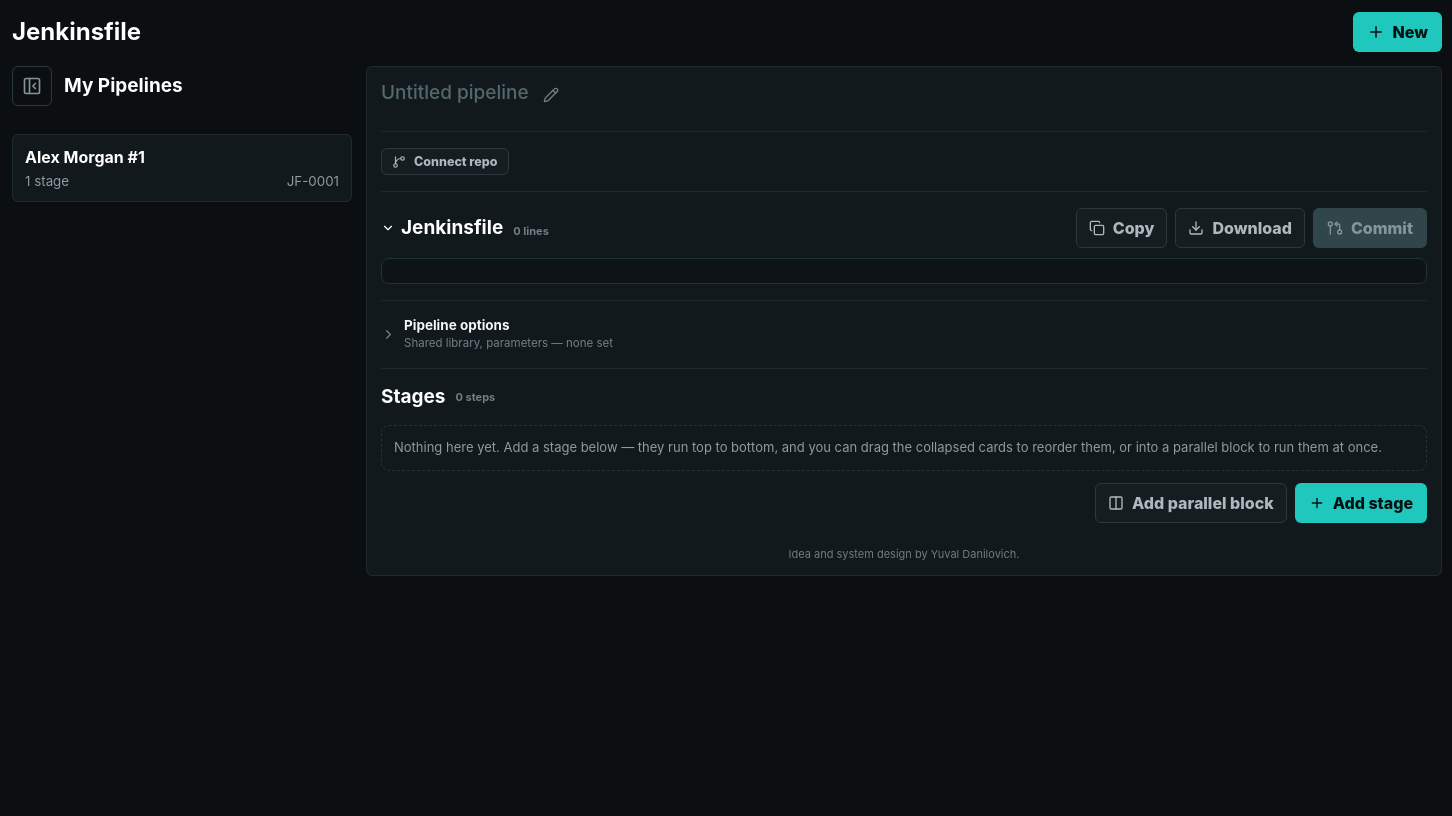
Scenario: JenkinsfileView › migrates a saved pipeline's envVars map into a populateEnvVars card
Click the text "Alex Morgan #1" at (85, 157), box [25,147,145,167]
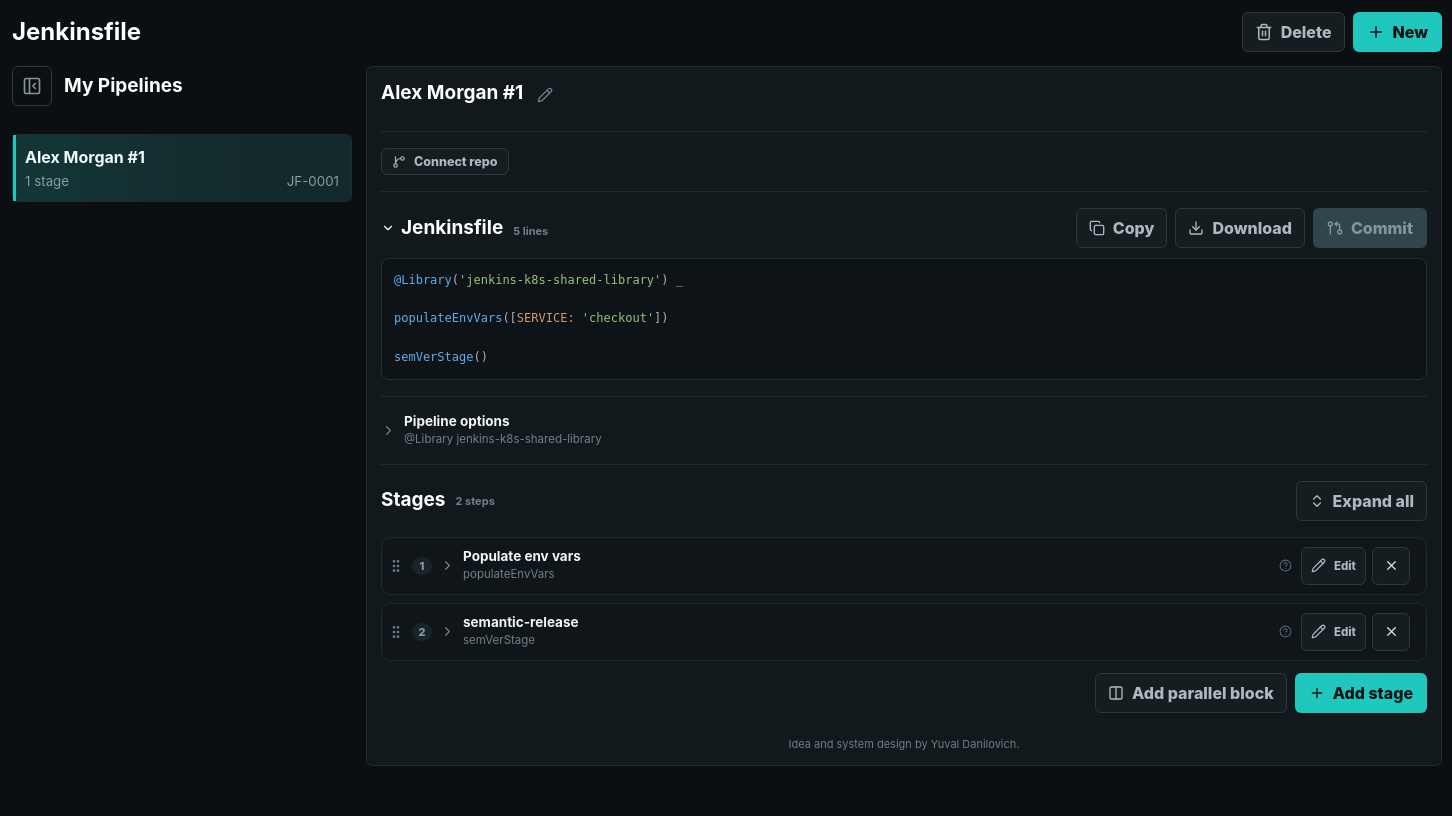
Now the button with aria-label "Expand Populate env vars" is shown
Click the button with aria-label "Expand Populate env vars" at (522, 556), box [440,548,1270,583]
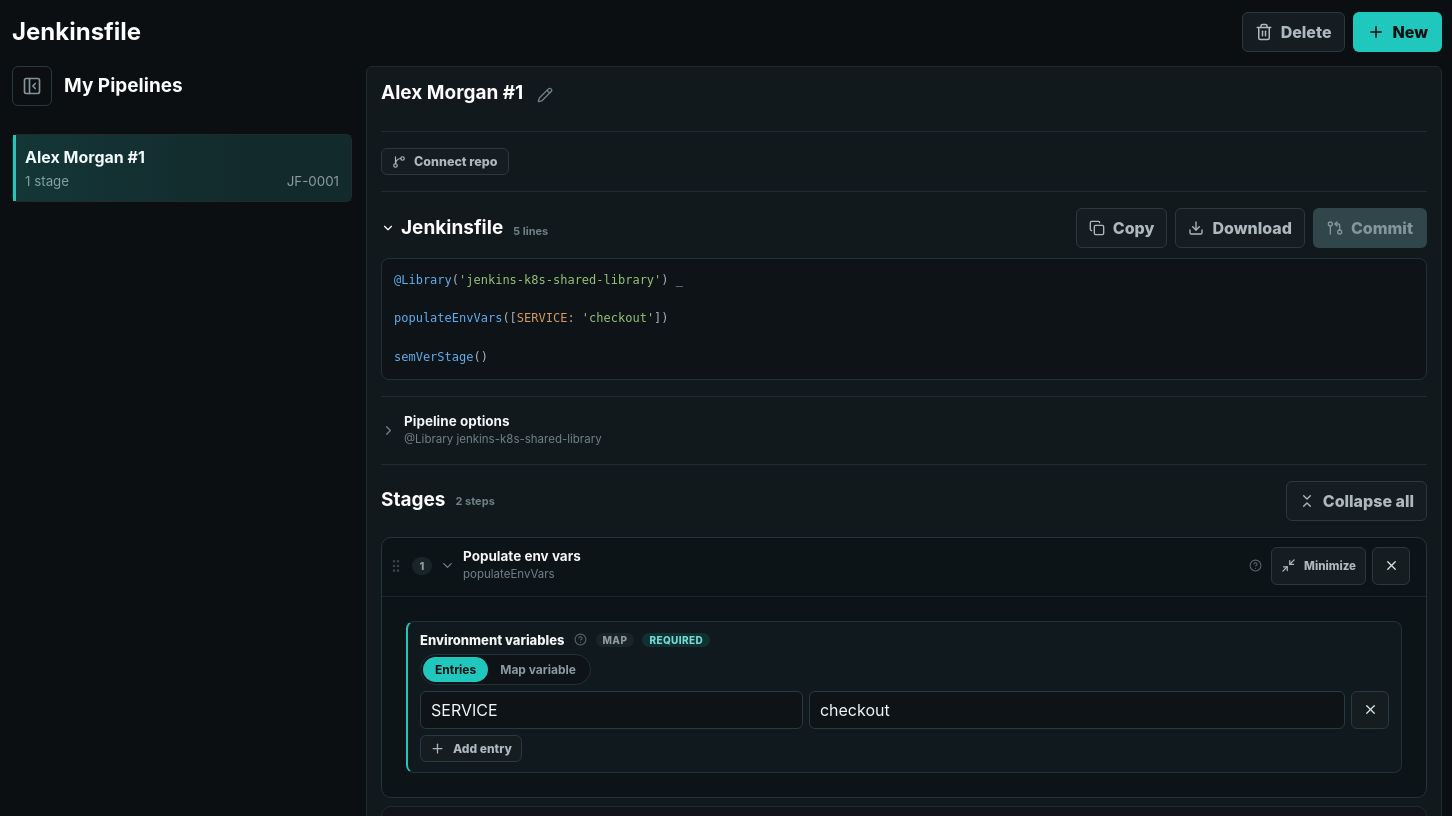
Now the field named "envVars key 1" holds "SERVICE", box [420,691,803,729]
